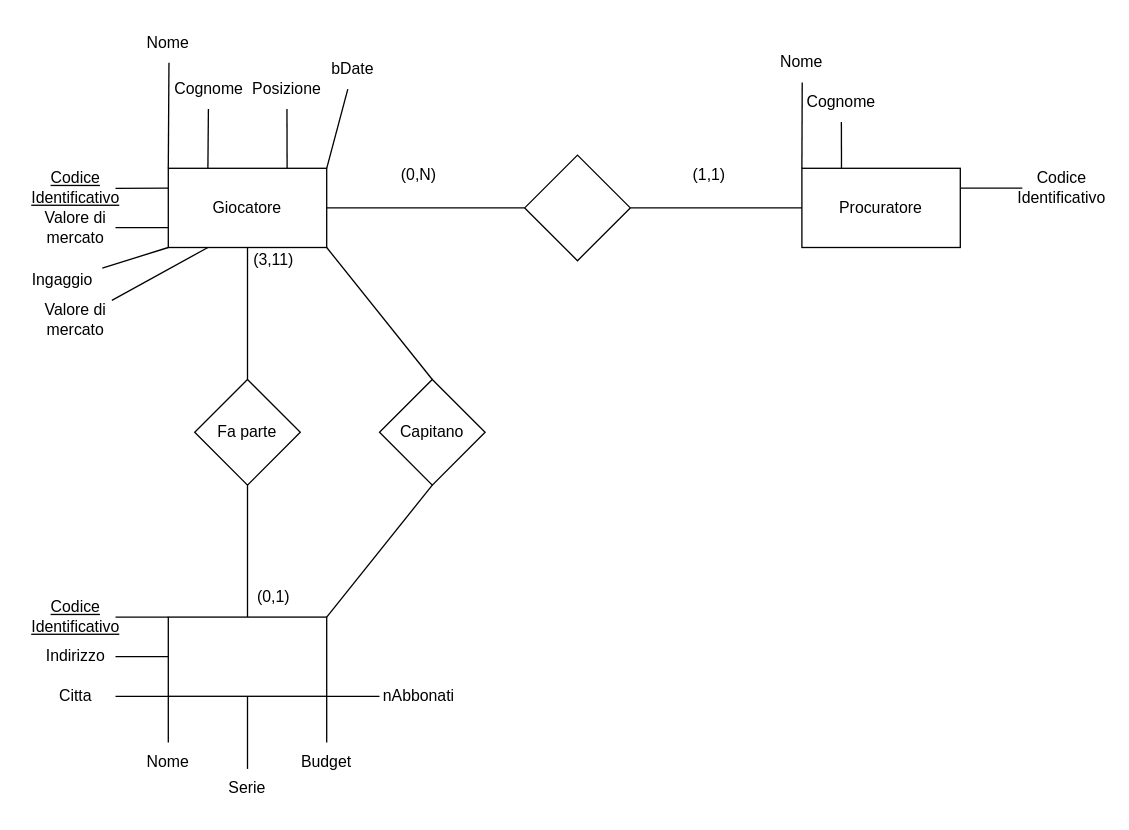
This 1129x830 diagram has some shape labels left out. Here are the shapes that lost their labels. From the top down, the centre of each, then its label:
At (576,207): "Gestisce".
At (247,656): "Squadra".
